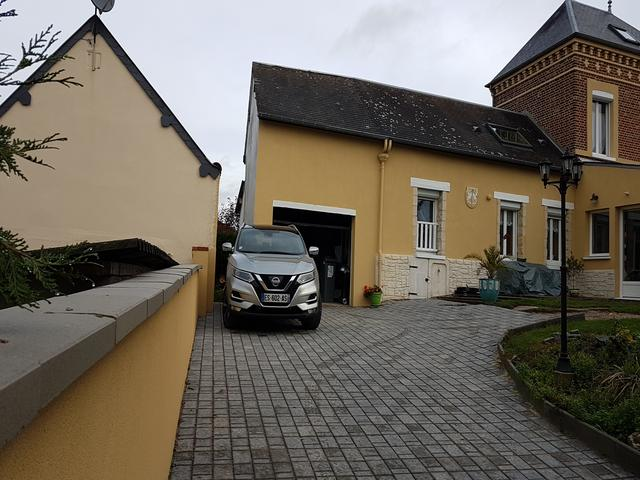Quashquai: (253, 288, 297, 309)
